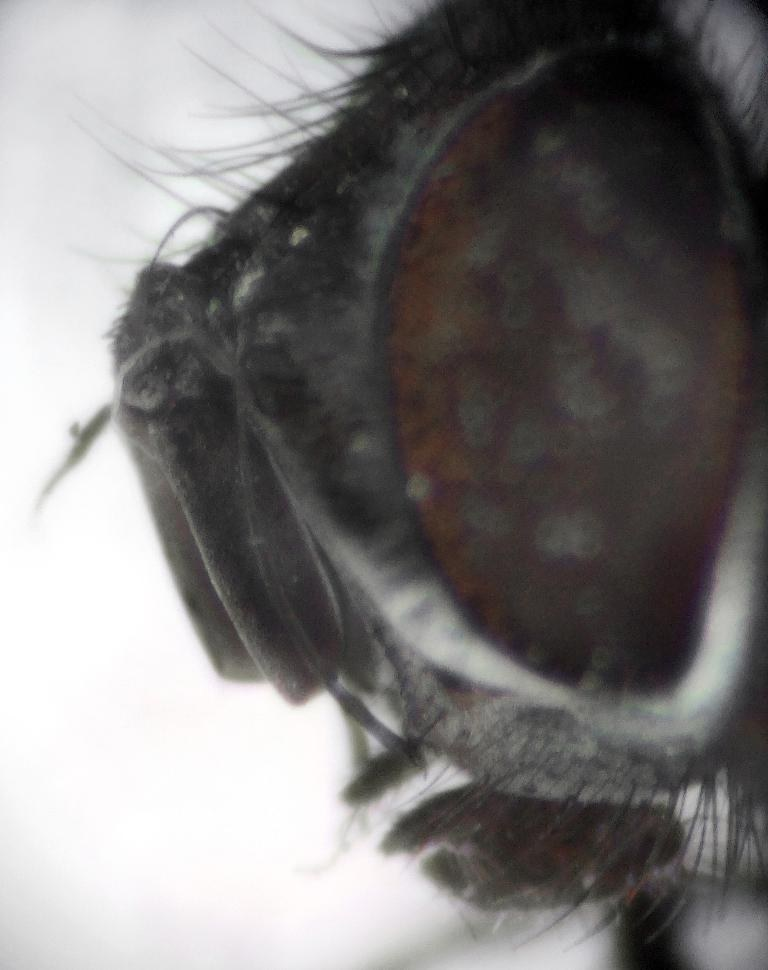insect: (29, 0, 767, 969)
